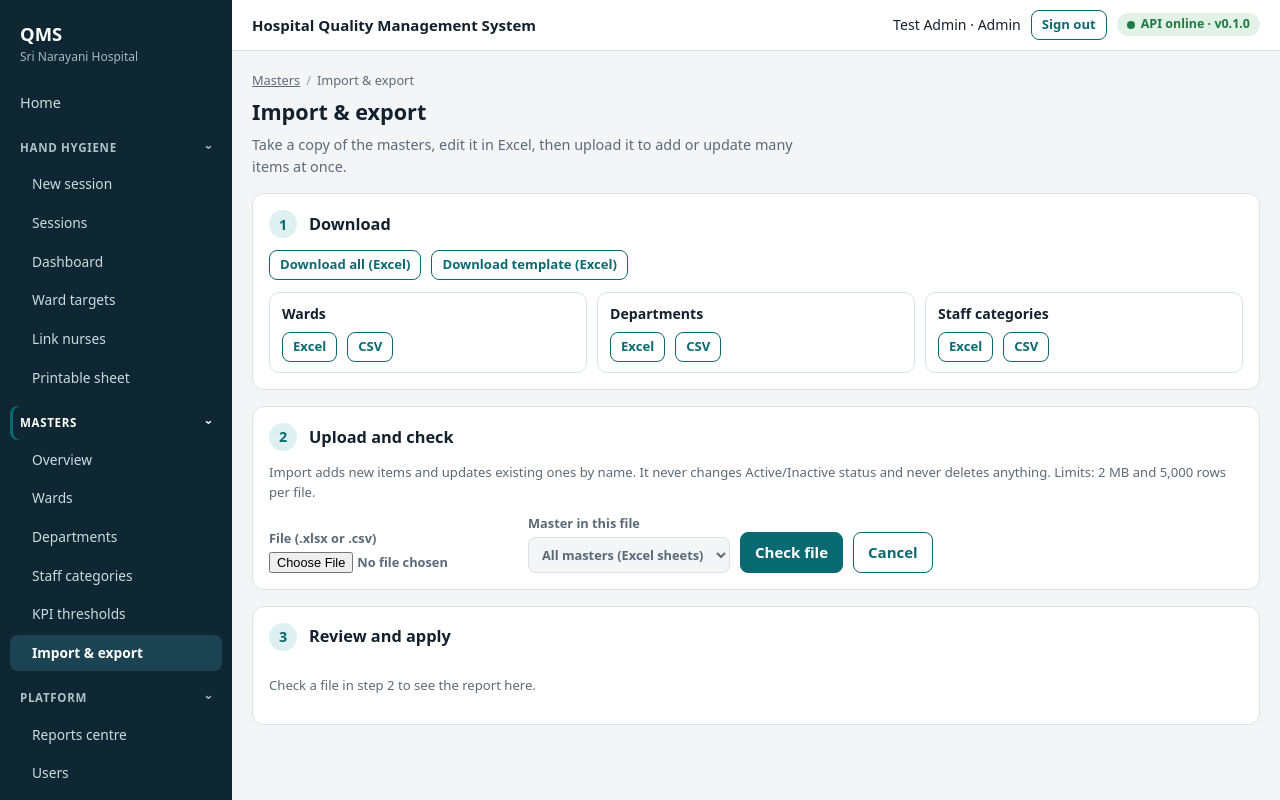
Import & export page › shows server errors for a rejected file
The image size is (1280, 800).
Earlier steps of the test are not shown.
Click the button "Check file". click: click(792, 552)
box: x1=740 y1=532 x2=843 y2=572
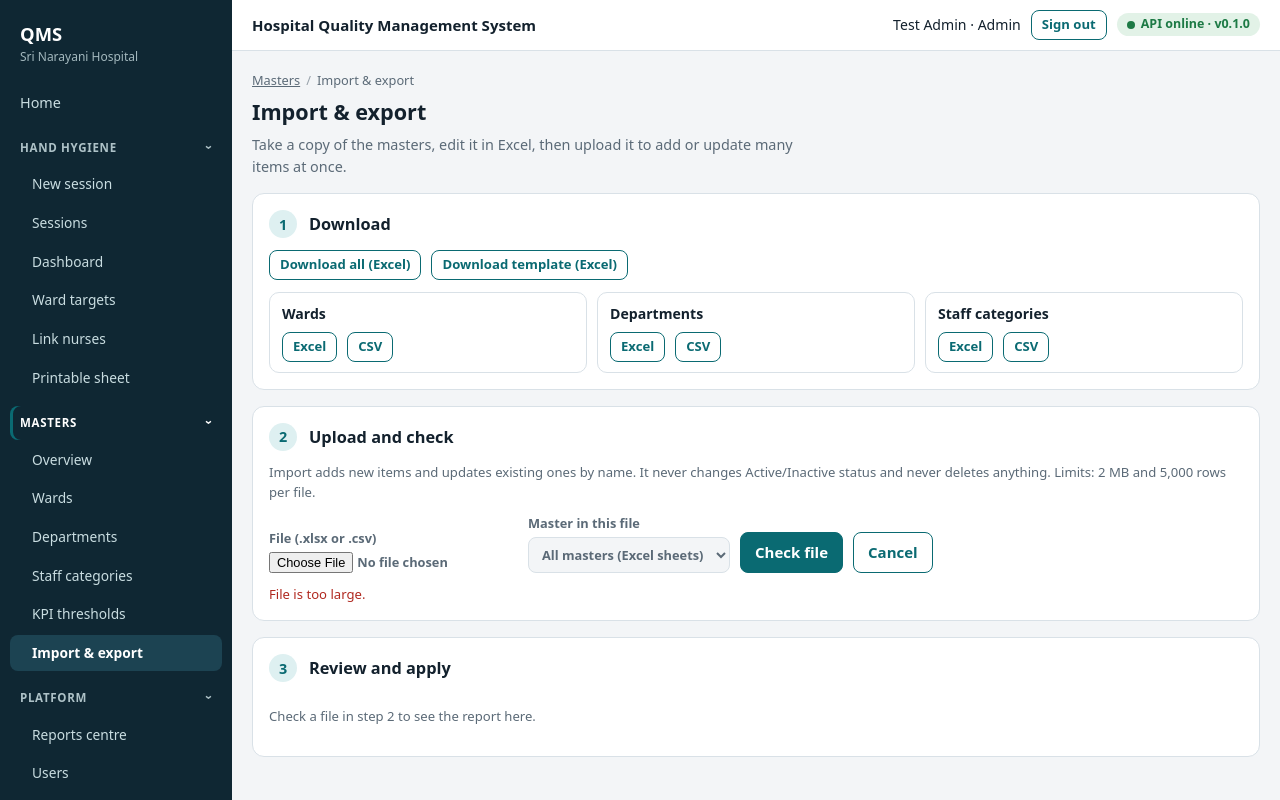
Check: the text "File is too large." is shown, box x1=269 y1=584 x2=365 y2=602
